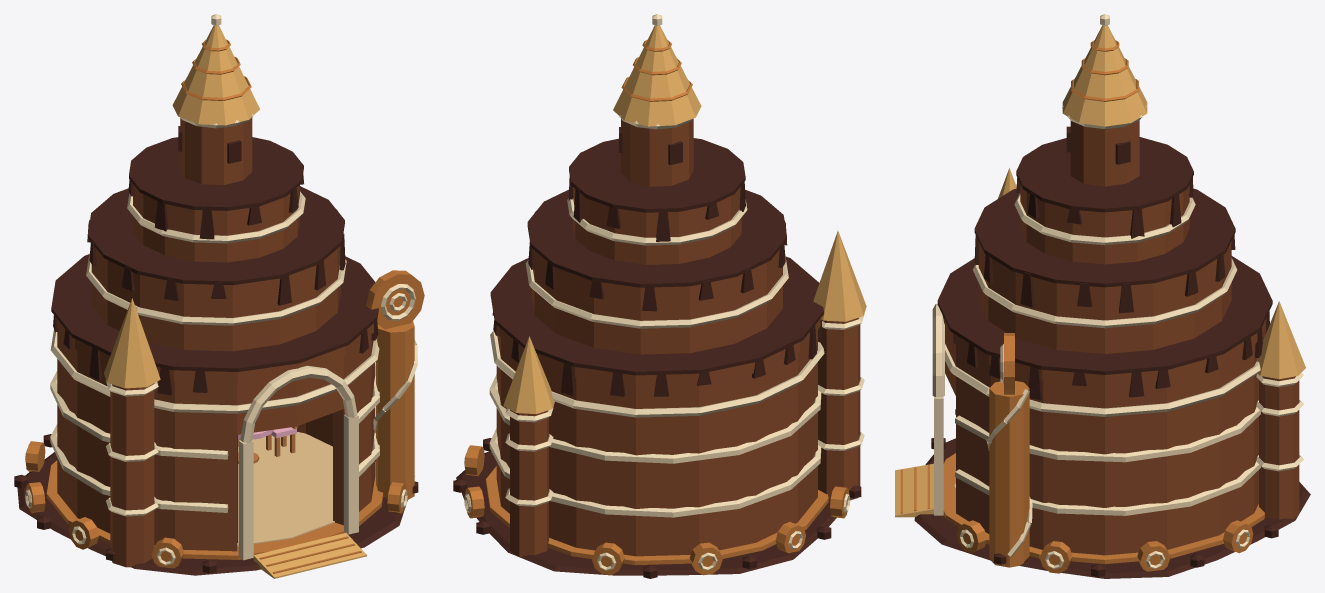
File: CV3_ChocoHouse.fbx
The picture shows the model from 3 angles, left to right: view 1: azimuth 30°, elevation 25°; view 2: azimuth 150°, elevation 25°; view 3: azimuth 270°, elevation 25°; orthographic projection.
Parts seen in each view (by area): view 1: CV3_ChocoHouse_Cake, CV3_ChocoHouse_Glaze, CV3_ChocoHouse_Cream, CV3_ChocoHouse_Rolls, CV3_ChocoHouse_Waffle, CV3_ChocoHouse_Floor, CV3_ChocoHouse_Puddle, CV3_ChocoHouse_Plinth; view 2: CV3_ChocoHouse_Cake, CV3_ChocoHouse_Glaze, CV3_ChocoHouse_Cream, CV3_ChocoHouse_Waffle, CV3_ChocoHouse_Puddle, CV3_ChocoHouse_Rolls, CV3_ChocoHouse_Plinth; view 3: CV3_ChocoHouse_Cake, CV3_ChocoHouse_Glaze, CV3_ChocoHouse_Cream, CV3_ChocoHouse_Rolls, CV3_ChocoHouse_Waffle, CV3_ChocoHouse_Puddle, CV3_ChocoHouse_Plinth.
Boxes of the visible parts, bbox=[...] form: CV3_ChocoHouse_Cake: bbox=[57, 118, 375, 567]; CV3_ChocoHouse_Glaze: bbox=[14, 126, 418, 573]; CV3_ChocoHouse_Cream: bbox=[25, 14, 417, 565]; CV3_ChocoHouse_Rolls: bbox=[25, 39, 424, 573]; CV3_ChocoHouse_Waffle: bbox=[104, 25, 366, 578]; CV3_ChocoHouse_Floor: bbox=[237, 432, 334, 546]; CV3_ChocoHouse_Puddle: bbox=[17, 452, 407, 575]; CV3_ChocoHouse_Plinth: bbox=[46, 460, 383, 559]; CV3_ChocoHouse_Cake: bbox=[496, 119, 860, 557]; CV3_ChocoHouse_Glaze: bbox=[453, 127, 861, 578]; CV3_ChocoHouse_Cream: bbox=[464, 14, 864, 570]; CV3_ChocoHouse_Waffle: bbox=[503, 25, 866, 413]; CV3_ChocoHouse_Puddle: bbox=[456, 451, 836, 575]; CV3_ChocoHouse_Rolls: bbox=[465, 39, 849, 575]; CV3_ChocoHouse_Plinth: bbox=[486, 466, 828, 565]; CV3_ChocoHouse_Cake: bbox=[943, 120, 1299, 555]; CV3_ChocoHouse_Glaze: bbox=[931, 126, 1278, 577]; CV3_ChocoHouse_Cream: bbox=[932, 14, 1303, 569]; CV3_ChocoHouse_Rolls: bbox=[900, 40, 1253, 573]; CV3_ChocoHouse_Waffle: bbox=[895, 25, 1305, 517]; CV3_ChocoHouse_Puddle: bbox=[914, 438, 1310, 578]; CV3_ChocoHouse_Plinth: bbox=[943, 453, 1264, 564].
Size of the model in its own units: 30.39 by 39.4 by 30.89.
